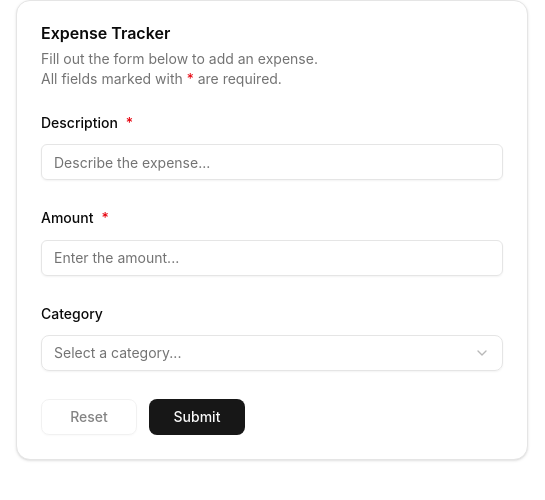
Test case: ExpenseTrackerForm › form display › clears category selection when Clear Selection is clicked
The image size is (545, 500).
Click the dropdown with test id "select-trigger-category". click: (118, 352)
box: [41,335,503,371]
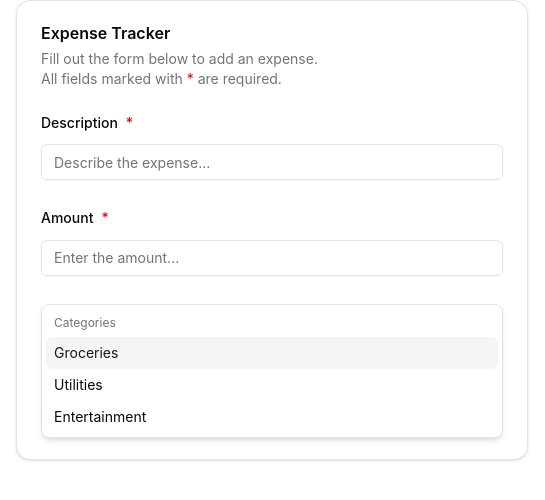
Click the option "Groceries". click: (86, 352)
box: [46,337,498,369]
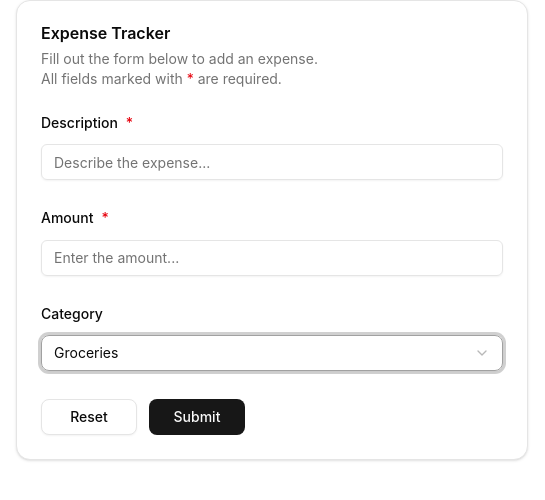
Expected: the dropdown "Select a category" is not shown
Click the dropdown with test id "select-trigger-category". click: (86, 352)
box: [41,335,503,371]
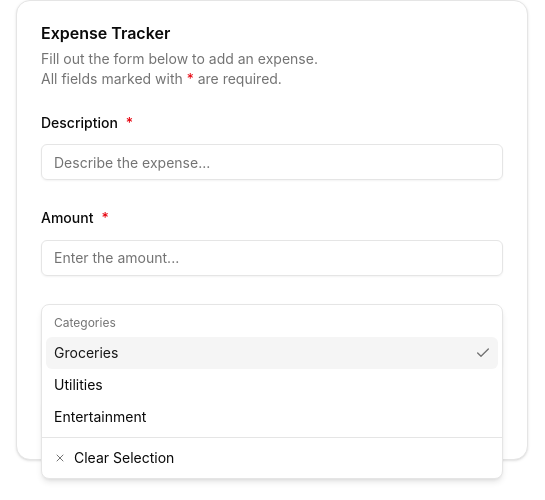
Click the option "Clear Selection". click: (114, 457)
box: [54,449,174,466]
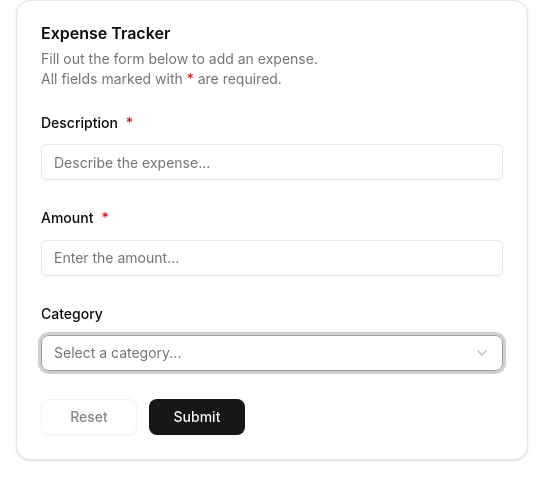
Result: the text "Select a category..." is shown at [54,343,181,363]
